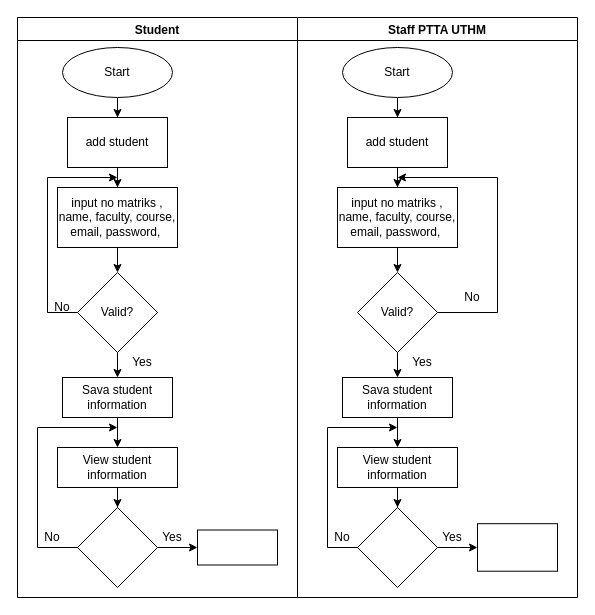
This 595x615 diagram has some shape labels left out. Each missing label, with the centre of its shape:
"edit" goes at point (117, 547).
"edit / delete student information" goes at point (517, 547).
"edit student information" goes at point (237, 547).
"edit/delete" goes at point (397, 547).
